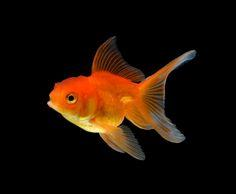goldfish: (41, 40, 207, 161)
